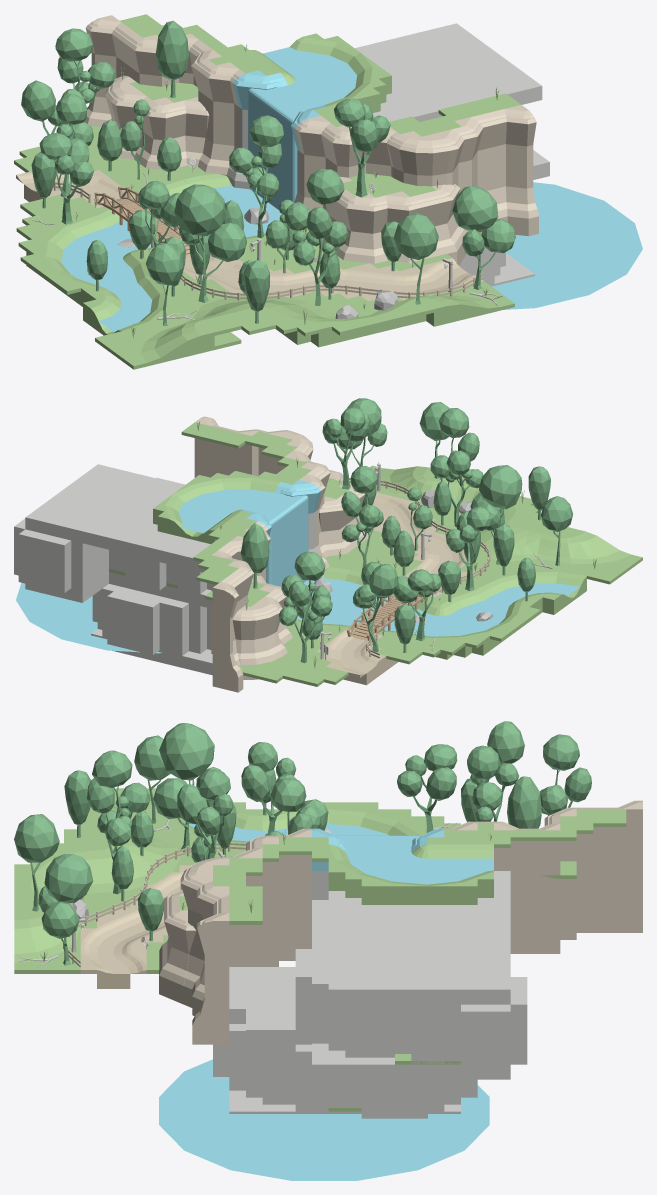
File: Autumn_Path_v2.glb
3 views of the same model, one above another, from view 1: azimuth 30°, elevation 25°; view 2: azimuth 150°, elevation 25°; view 3: azimuth 270°, elevation 25° (orthographic). The views are drawn at different scales.
Parts seen in each view (by area): view 1: Water_Circle_1_Lowpoly_0_0_1, Floor_And_Ceiling_Flat_1x1_0_0_2, Basic_Curve_Outer_3x3_Top_0_0_1, Grass_Flat_1x1_0_0_57, Grass_Hill_Grade_Transition_Curve_Outer_4x5_0_0_1, Tree_Oak_5_3_1_1, Grass_Hill_Grade_Transition_Curve_Inner_4x5_0_1_1, Grass_Hill_Sharp_Curve_Inner_6x6_0_0_2, Grass_Hill_Sharp_Curve_Inner_6x6_0_0_3, Tree_Oak_5_3_0_1, Grass_Hill_Grade_Transition_Curve_Outer_4x5_0_1_1, Tree_Oak_3_1_1_1 (+92 smaller); view 2: Floor_And_Ceiling_Flat_1x1_0_0_2, Water_Circle_1_Lowpoly_0_0_1, Wall_Curve_Inner_7x7_Top_0_0_2, Wall_Curve_Inner_7x7_Base_0_0_2, Grass_Hill_Grade_Transition_Curve_Outer_4x5_0_0_1, Grass_Hill_Sharp_Curve_Inner_6x6_0_0_3, Grass_Hill_Sharp_Curve_Inner_6x6_0_0_1, Tree_Oak_5_3_1_1, Wall_Curve_Inner_3x3_Top_0_0_1, Basic_Curve_Outer_3x3_Top_0_0_2, Grass_Flat_1x1_0_0_51, Grass_Flat_1x1_0_0_57 (+72 smaller); view 3: Water_Circle_1_Lowpoly_0_0_1, Floor_And_Ceiling_Flat_1x1_0_0_2, Floor_And_Ceiling_Flat_1x1_0_0_8, Wall_Curve_Inner_7x7_Base_0_0_1, Floor_And_Ceiling_Flat_1x1_0_0_1, Grass_Hill_Sharp_Curve_Inner_6x6_0_0_3, Wall_Esse_4x6_Top_0_0_1, Wall_Esse_4x6_Base_0_0_1, Wall_Curve_Inner_7x7_Top_0_0_1, Wall_Curve_Inner_5x5_Top_0_0_1, Wall_Curve_Inner_5x5_Base_0_0_2, Tree_Oak_5_3_1_1 (+68 smaller).
Boxes of the visible parts, x1,y1,x2,y2 form: Water_Circle_1_Lowpoly_0_0_1: [492, 182, 642, 309]; Floor_And_Ceiling_Flat_1x1_0_0_2: [355, 23, 542, 121]; Basic_Curve_Outer_3x3_Top_0_0_1: [387, 131, 449, 175]; Grass_Flat_1x1_0_0_57: [95, 313, 241, 369]; Grass_Hill_Grade_Transition_Curve_Outer_4x5_0_0_1: [140, 320, 214, 366]; Tree_Oak_5_3_1_1: [174, 184, 226, 235]; Grass_Hill_Grade_Transition_Curve_Inner_4x5_0_1_1: [274, 309, 372, 347]; Grass_Hill_Sharp_Curve_Inner_6x6_0_0_2: [26, 217, 99, 288]; Grass_Hill_Sharp_Curve_Inner_6x6_0_0_3: [323, 53, 391, 112]; Tree_Oak_5_3_0_1: [452, 185, 498, 232]; Grass_Hill_Grade_Transition_Curve_Outer_4x5_0_1_1: [403, 295, 501, 326]; Tree_Oak_3_1_1_1: [394, 212, 438, 259]; Floor_And_Ceiling_Flat_1x1_0_0_2: [25, 464, 210, 572]; Water_Circle_1_Lowpoly_0_0_1: [16, 582, 162, 653]; Wall_Curve_Inner_7x7_Top_0_0_2: [130, 592, 211, 631]; Wall_Curve_Inner_7x7_Base_0_0_2: [130, 625, 211, 655]; Grass_Hill_Grade_Transition_Curve_Outer_4x5_0_0_1: [548, 528, 630, 563]; Grass_Hill_Sharp_Curve_Inner_6x6_0_0_3: [173, 471, 280, 502]; Grass_Hill_Sharp_Curve_Inner_6x6_0_0_1: [479, 565, 586, 599]; Tree_Oak_5_3_1_1: [479, 465, 522, 509]; Wall_Curve_Inner_3x3_Top_0_0_1: [41, 535, 95, 569]; Basic_Curve_Outer_3x3_Top_0_0_2: [233, 602, 279, 640]; Grass_Flat_1x1_0_0_51: [241, 656, 336, 686]; Grass_Flat_1x1_0_0_57: [531, 554, 642, 584]; Water_Circle_1_Lowpoly_0_0_1: [159, 1059, 489, 1180]; Floor_And_Ceiling_Flat_1x1_0_0_2: [328, 871, 510, 1004]; Floor_And_Ceiling_Flat_1x1_0_0_8: [312, 1043, 510, 1079]; Wall_Curve_Inner_7x7_Base_0_0_1: [213, 1047, 328, 1111]; Floor_And_Ceiling_Flat_1x1_0_0_1: [229, 967, 295, 1023]; Grass_Hill_Sharp_Curve_Inner_6x6_0_0_3: [328, 844, 427, 904]; Wall_Esse_4x6_Top_0_0_1: [378, 1004, 477, 1041]; Wall_Esse_4x6_Base_0_0_1: [378, 1027, 477, 1071]; Wall_Curve_Inner_7x7_Top_0_0_1: [213, 1024, 328, 1081]; Wall_Curve_Inner_5x5_Top_0_0_1: [295, 963, 378, 1027]; Wall_Curve_Inner_5x5_Base_0_0_2: [295, 1007, 378, 1057]; Tree_Oak_5_3_1_1: [159, 723, 214, 780].
Bounding box in the file's own units: 44.59 × 17.1 × 38.02.
